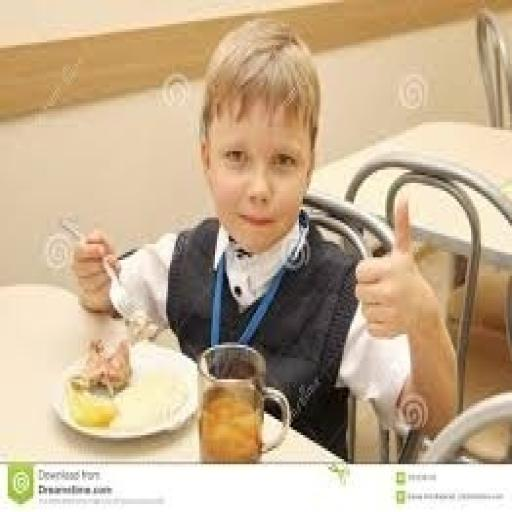eating: (68, 16, 460, 462)
